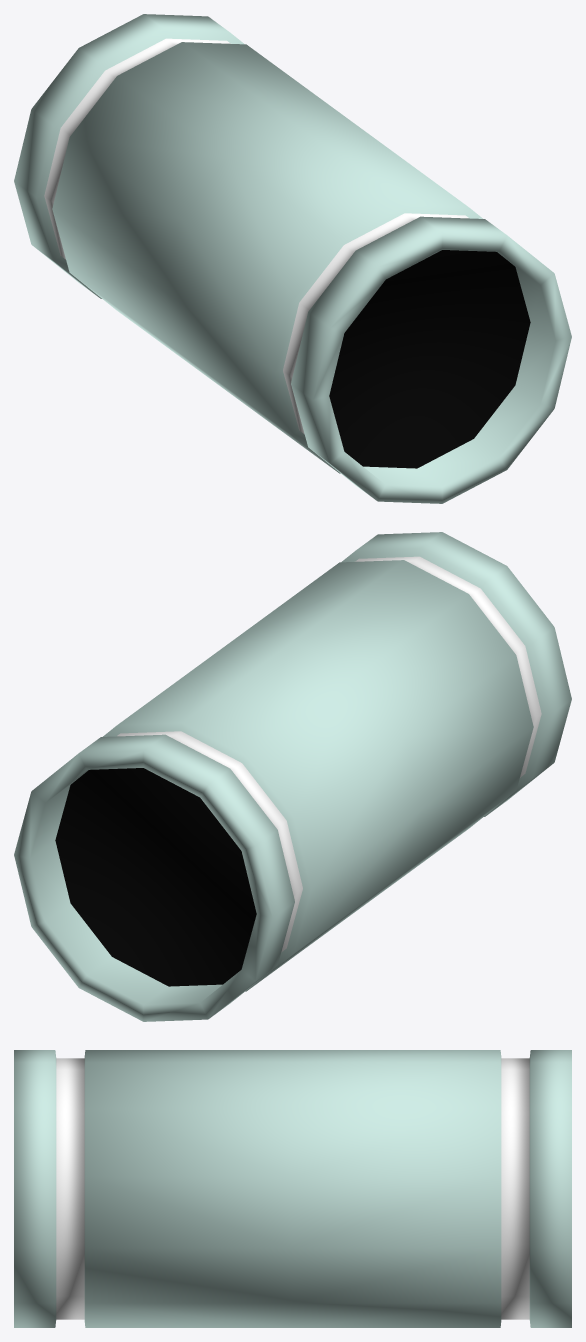
Rendered from Pipes.fbx.
3 views of the same model, one above another, from view 1: azimuth 30°, elevation 25°; view 2: azimuth 150°, elevation 25°; view 3: azimuth 270°, elevation 25° (orthographic). The views are drawn at different scales.
Parts seen in each view (by area): view 1: Cylinder; view 2: Cylinder; view 3: Cylinder.
Boxes of the visible parts, left/top/right/bottom form: Cylinder: left=14, top=14, right=571, bottom=503; Cylinder: left=14, top=532, right=571, bottom=1021; Cylinder: left=14, top=1050, right=571, bottom=1327.
Size of the model in its own units: 0.5 by 0.5 by 1.
